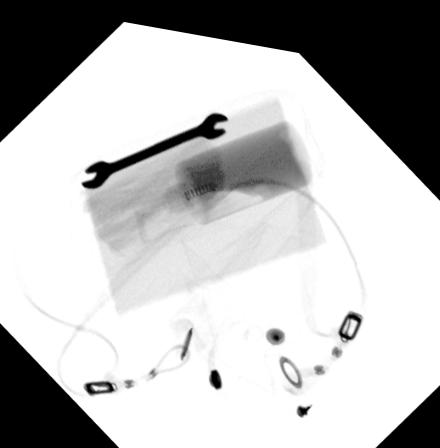Wrench: (77, 102, 230, 186)
